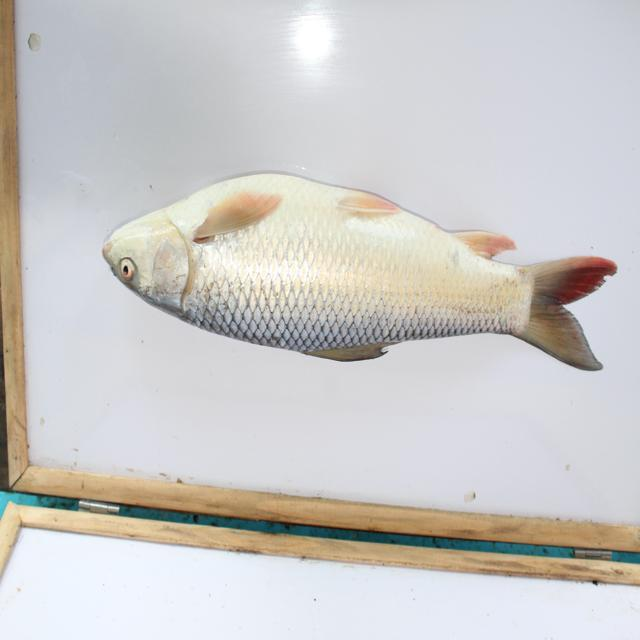Grass Carp: (105, 171, 620, 382)
